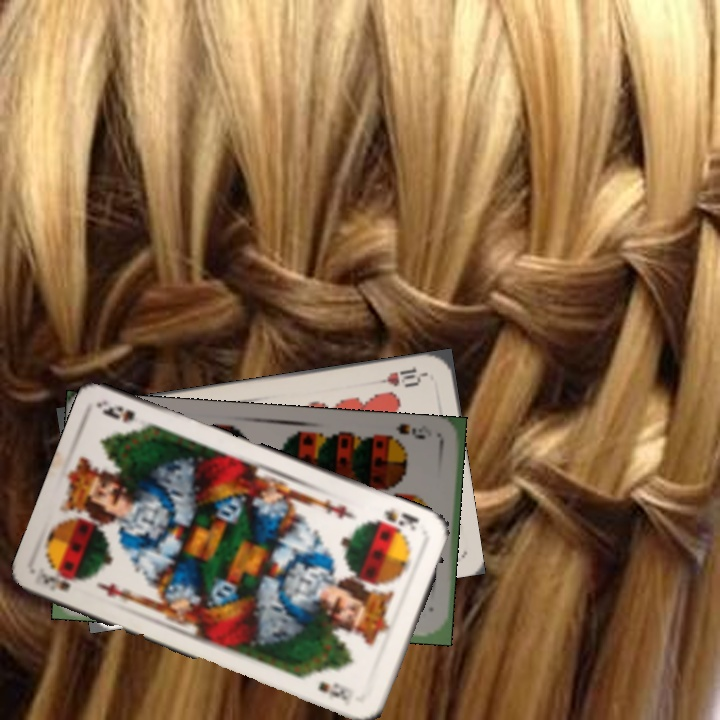H10: (370, 364, 429, 389)
S9: (379, 420, 428, 447)
SK: (372, 505, 421, 534), (37, 570, 74, 594)
